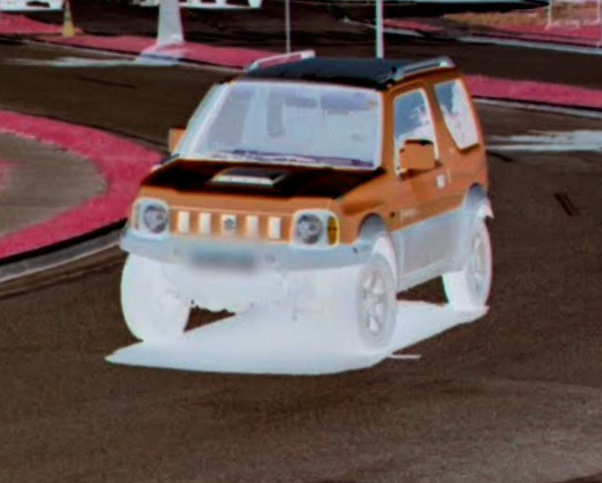car: (114, 45, 497, 354)
